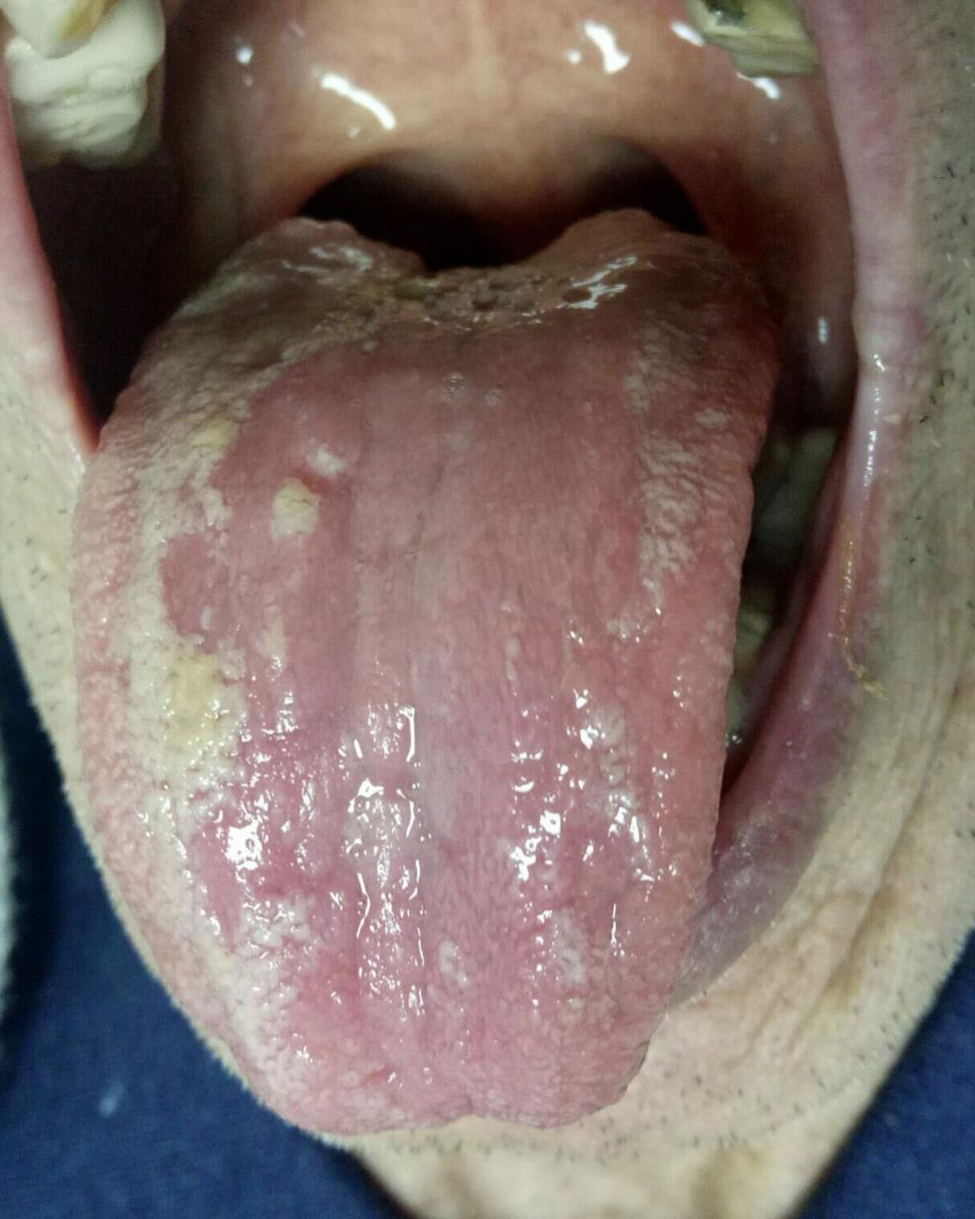baitaishe: (67, 208, 780, 1138)
botaishe: (146, 315, 361, 689)
huataishe: (486, 748, 704, 908)
shenquao: (297, 208, 641, 282)
